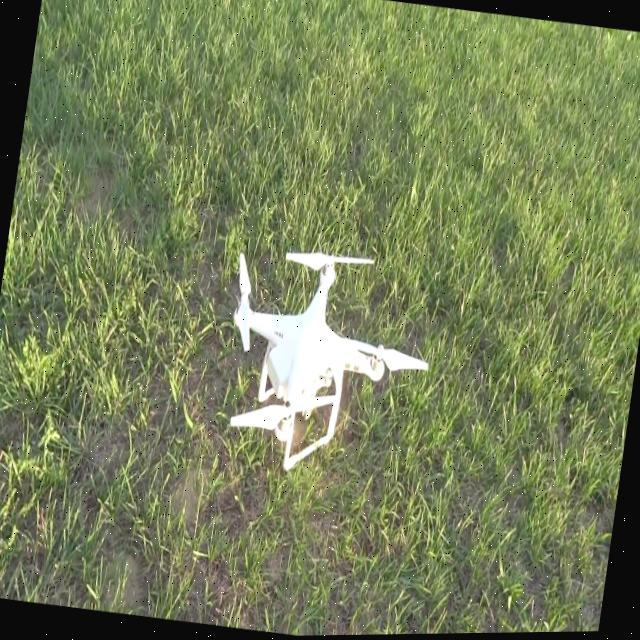drone: (204, 233, 443, 494)
